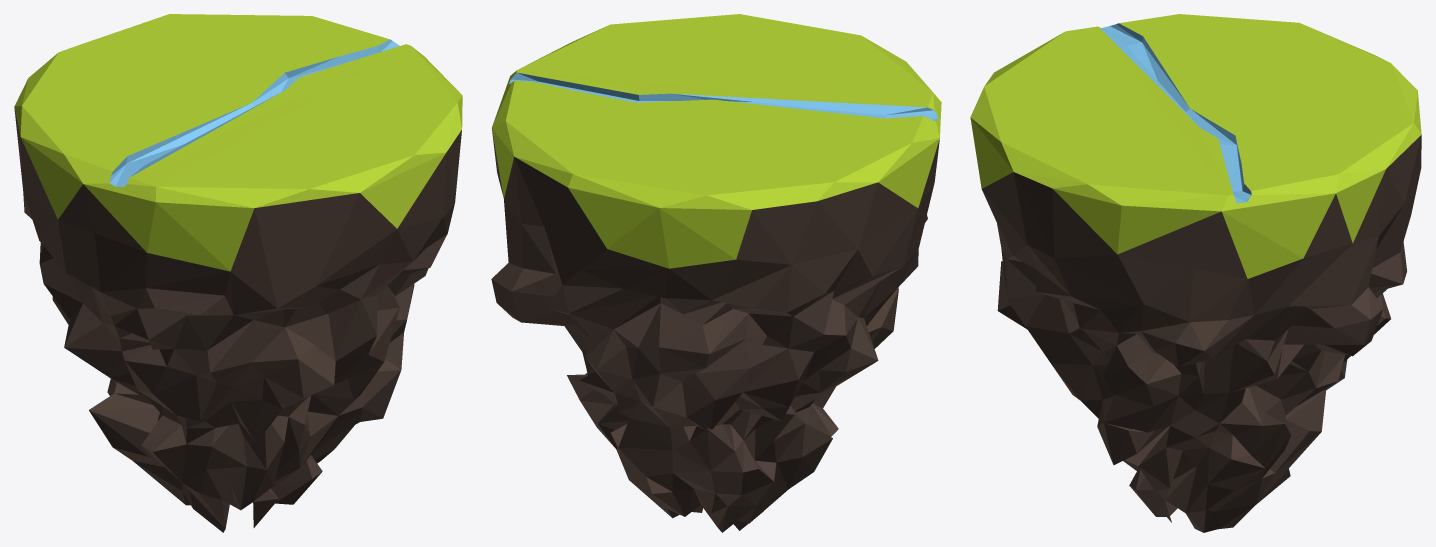
The model's file is Island.fbx.
3 renders of one model, left to right at view 1: azimuth 30°, elevation 25°; view 2: azimuth 150°, elevation 25°; view 3: azimuth 270°, elevation 25°, orthographic.
Visible parts, largest first — view 1: Boole_1; view 2: Boole_1; view 3: Boole_1.
Part boxes in pixels (x1=…): Boole_1: x1=14, y1=14, x2=462, y2=532; Boole_1: x1=491, y1=14, x2=941, y2=532; Boole_1: x1=970, y1=14, x2=1421, y2=532.
Bounding box in the file's own units: 100 × 104 × 99.93.
